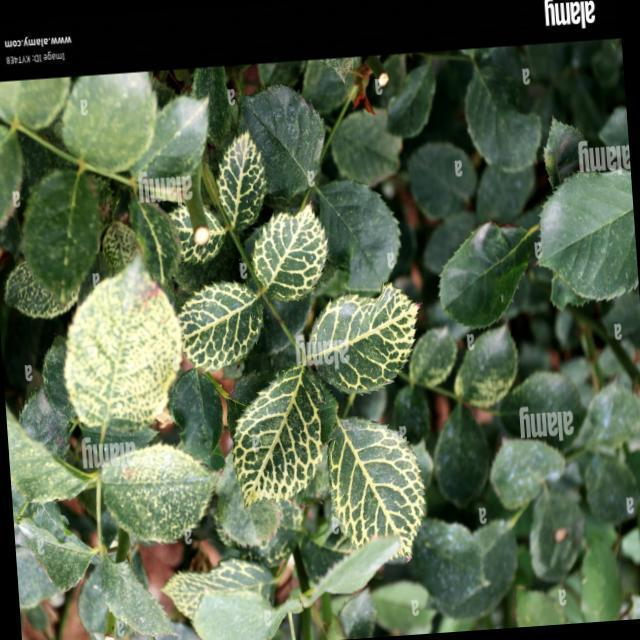Mosaic Virus: (70, 256, 188, 432), (328, 412, 428, 562), (310, 290, 424, 401), (229, 380, 326, 506), (112, 442, 215, 556), (256, 196, 326, 304), (174, 293, 274, 366), (0, 259, 90, 330), (158, 556, 267, 612), (215, 128, 273, 232), (164, 204, 228, 270)
